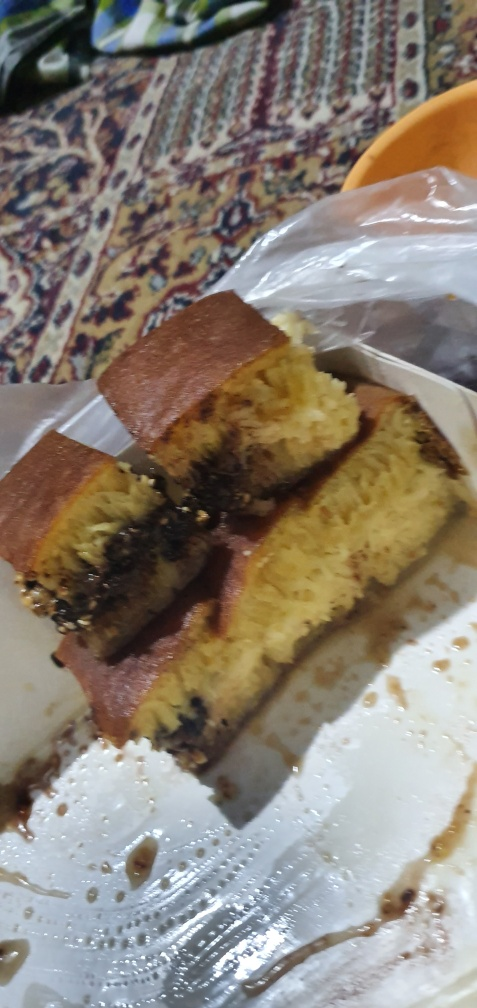martabak manis: (93, 280, 356, 464), (1, 431, 214, 653), (48, 642, 272, 770), (303, 399, 459, 580), (200, 504, 351, 662)
